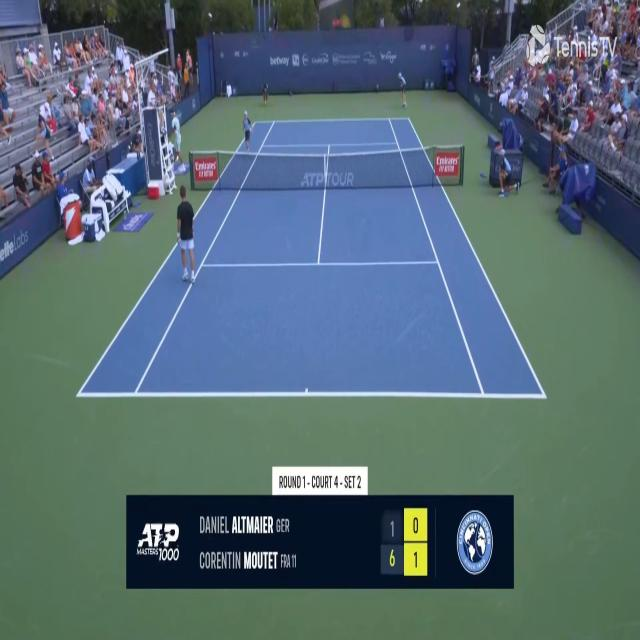tennis-player: (174, 180, 202, 284)
